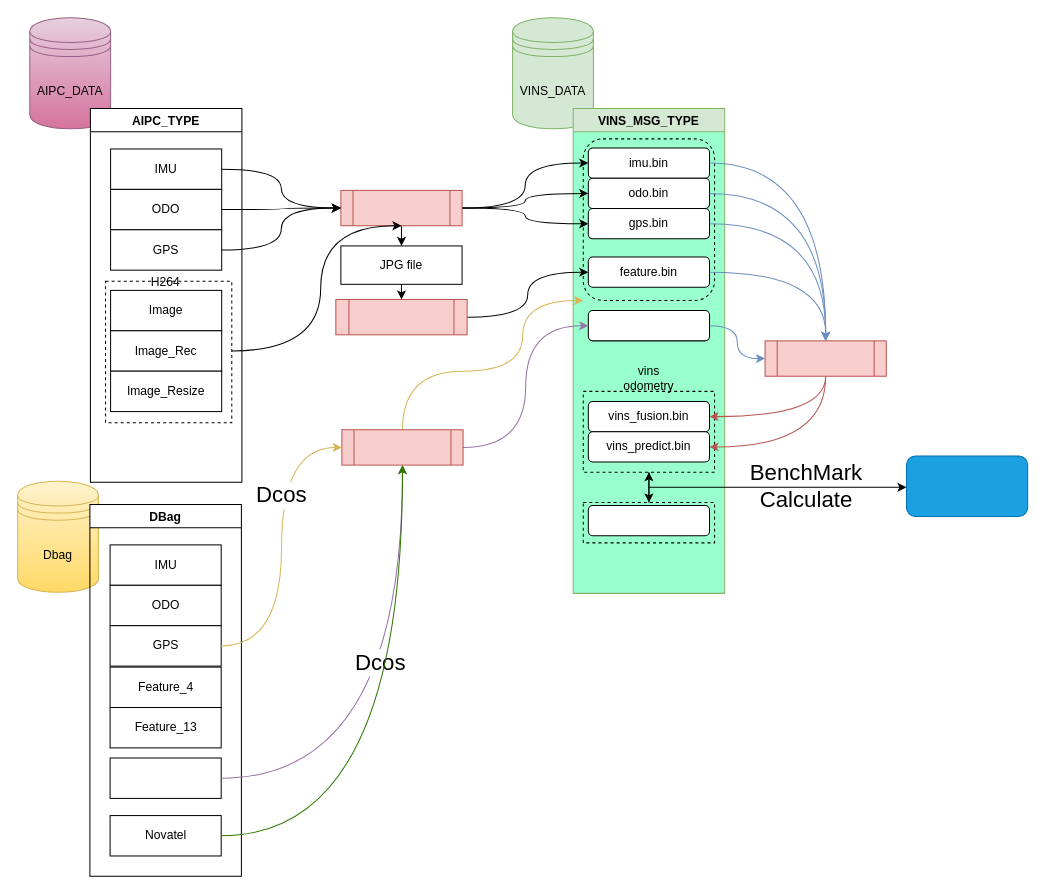
This 1045x894 diagram has some shape labels left out. Here are the shapes that lost their labels. From the top down, the centre of each, then its label:
the point at 401,207: aipc dumper
the point at 401,316: feature tracker
the point at 648,325: calib_info.json
the point at 825,358: motion estimator
the point at 402,447: record dumper
the point at 966,486: Benchmark Result
the point at 648,520: Novatel.bin/csv
the point at 165,777: calib info
